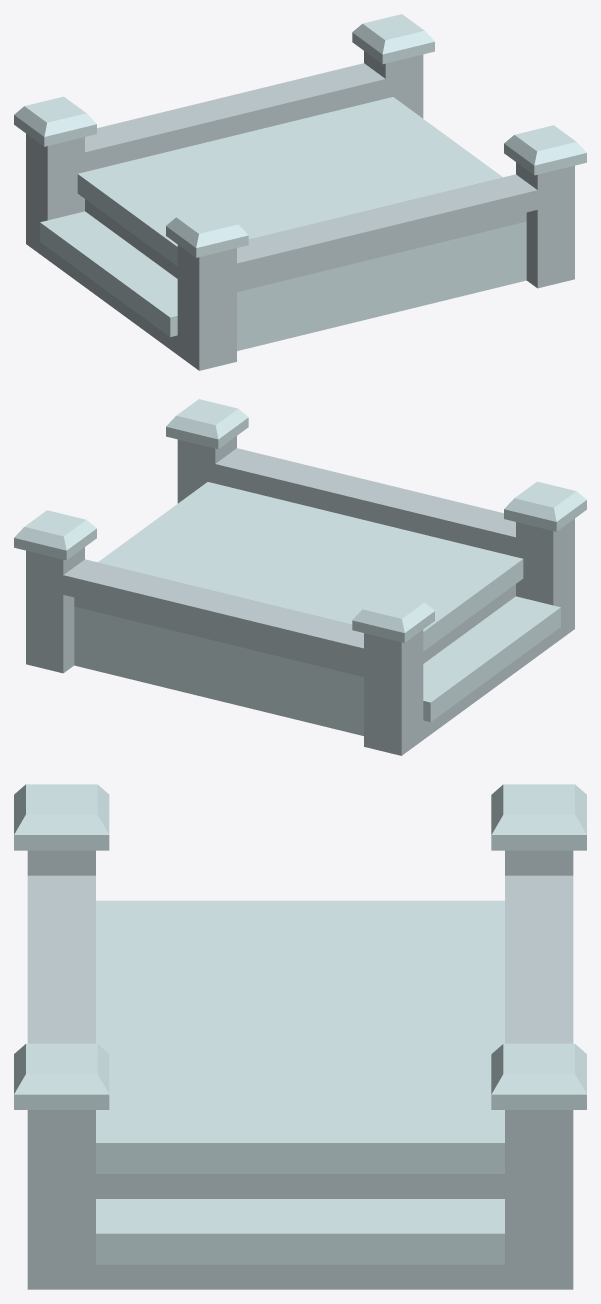
Rendered from bridge_stoneNarrow.glb.
3 renders of one model, top to bottom at view 1: azimuth 30°, elevation 25°; view 2: azimuth 150°, elevation 25°; view 3: azimuth 270°, elevation 25°, orthographic. The views are drawn at different scales.
Visible parts, largest first — view 1: bridge_stoneNarrow; view 2: bridge_stoneNarrow; view 3: bridge_stoneNarrow.
Part boxes in pixels (box(x1,y1,x2,y2)): bridge_stoneNarrow: box(14, 14, 586, 370); bridge_stoneNarrow: box(14, 399, 586, 755); bridge_stoneNarrow: box(14, 784, 586, 1289).
Bounding box in the file's own units: 1.04 × 0.35 × 0.84.
Materials: 1 (1 with a texture image).
